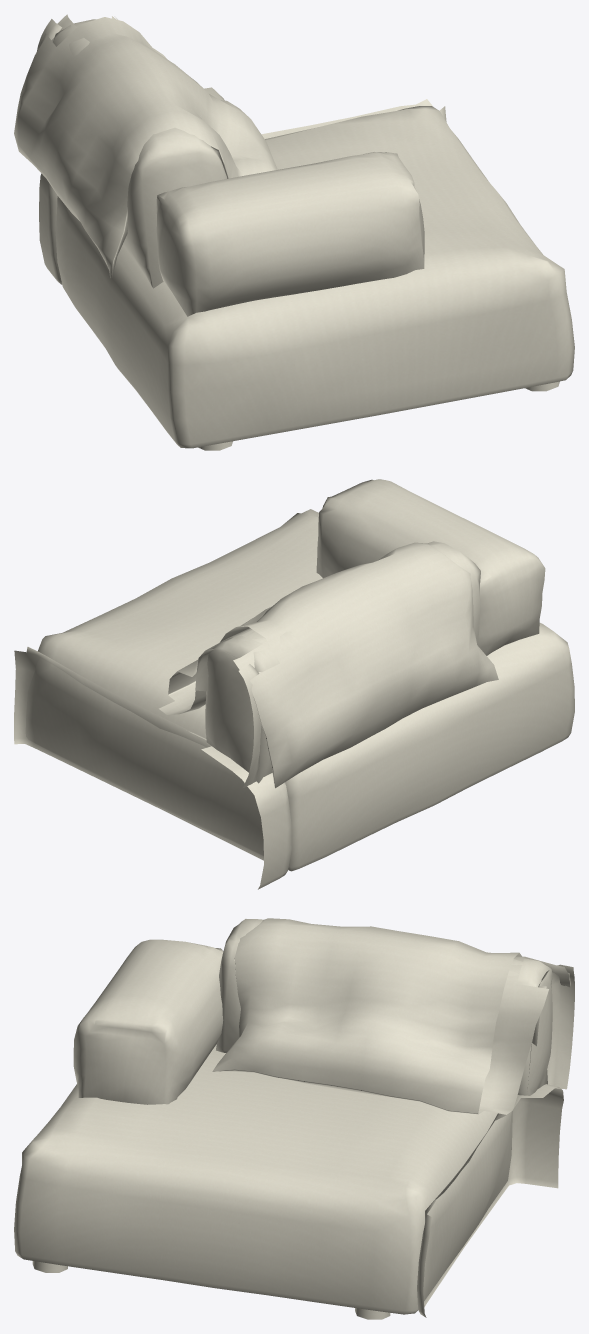
Rendered from LeftSofa.fbx.
3 views of the same model, one above another, from view 1: azimuth 30°, elevation 25°; view 2: azimuth 150°, elevation 25°; view 3: azimuth 270°, elevation 25° (orthographic). The views are drawn at different scales.
Visible parts, largest first — view 1: Sofa; view 2: Sofa; view 3: Sofa.
Boxes of the visible parts, x1=… form: Sofa: x1=14, y1=14, x2=574, y2=450; Sofa: x1=14, y1=479, x2=574, y2=889; Sofa: x1=14, y1=918, x2=574, y2=1319.
Bounding box in the file's own units: 131 × 77.88 × 151.
